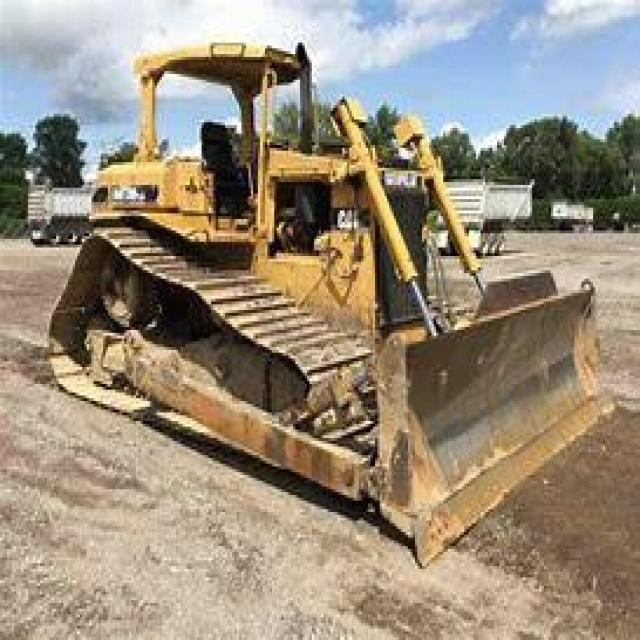Bulldozer: (38, 28, 621, 574)
